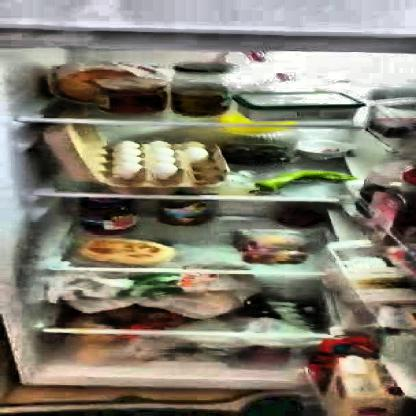cream_cheese: (238, 92, 359, 119)
eggs: (114, 141, 209, 180)
green_chillies: (249, 170, 348, 191)
milk: (331, 358, 411, 413)
olives: (222, 142, 293, 163)
tomato_paste: (101, 78, 169, 113)
